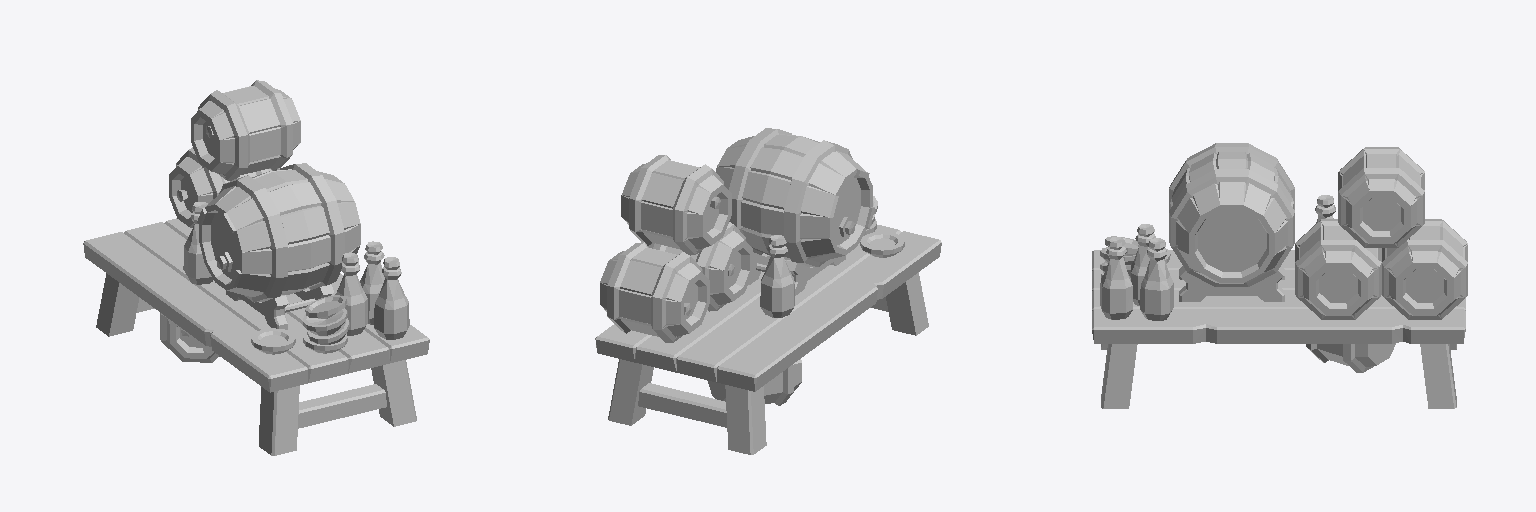
File: table_long_decorated_C.obj
3 renders of one model, left to right at view 1: azimuth 30°, elevation 25°; view 2: azimuth 150°, elevation 25°; view 3: azimuth 270°, elevation 25°, orthographic.
Parts seen in each view (by area): view 1: table_long_decorated_C_Cube.004; view 2: table_long_decorated_C_Cube.004; view 3: table_long_decorated_C_Cube.004.
Boxes of the visible parts, <box> form: table_long_decorated_C_Cube.004: <box>83,80,429,455</box>; table_long_decorated_C_Cube.004: <box>595,128,941,454</box>; table_long_decorated_C_Cube.004: <box>1092,143,1467,408</box>.
Bounding box in the file's own units: 2 × 2.77 × 4.03.